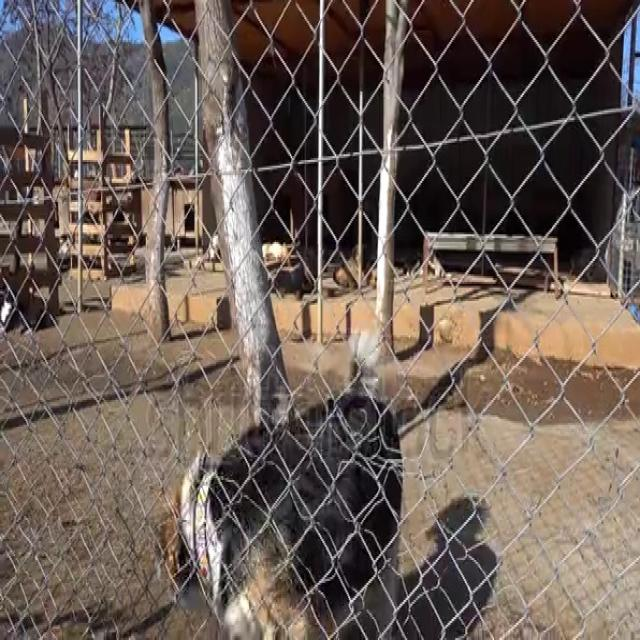normal_animals: (143, 443, 448, 640)
